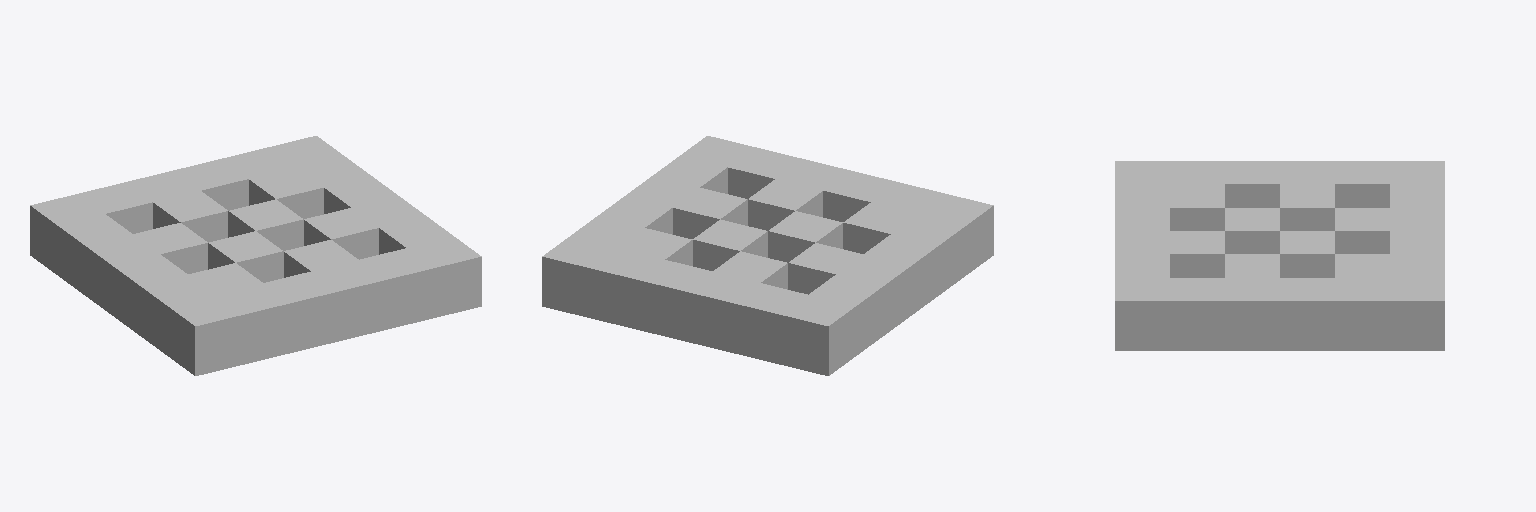
Rendered from Surrounded Grate U.obj.
The picture shows the model from 3 angles: view 1: azimuth 30°, elevation 25°; view 2: azimuth 150°, elevation 25°; view 3: azimuth 270°, elevation 25°; orthographic projection.
Visible parts, largest first — view 1: object 1; view 2: object 1; view 3: object 1.
Boxes of the visible parts, <box> form: object 1: <box>30,136,481,375</box>; object 1: <box>542,136,993,375</box>; object 1: <box>1115,161,1444,350</box>.
Bounding box in the file's own units: 0.6 × 0.1 × 0.6.